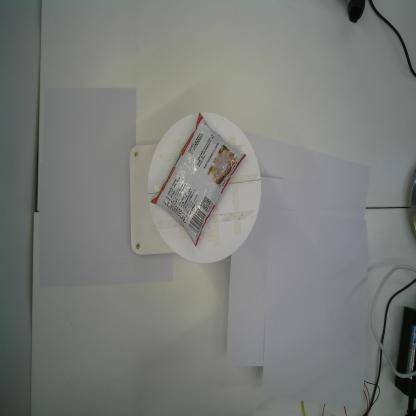Seasoner: (148, 108, 246, 250)
